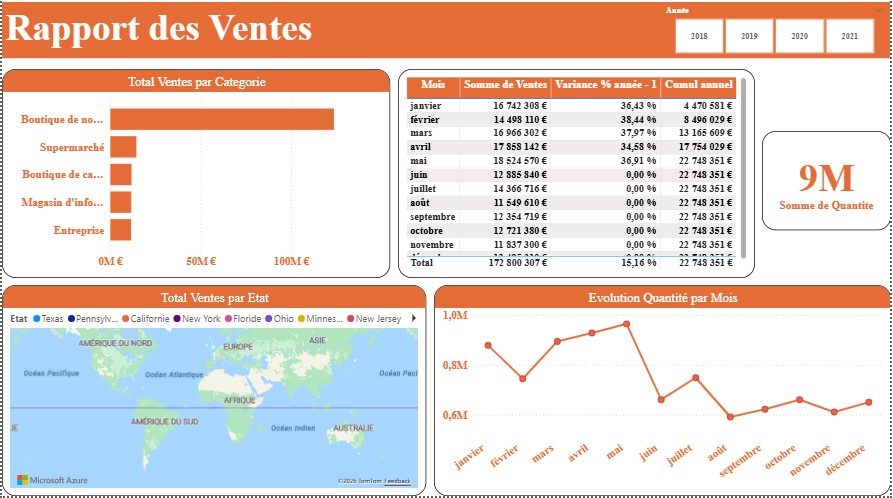

The page's visual inventory and layout, read from the dashboard file:
{"tool":"powerbi","page":{"name":"Page 1","canvas":[1280,720],"ordinal":0},"visuals":[{"type":"barChart","title":"Total  Ventes par Categorie","fields":{"Category":["ClientPrincipal.CategorieNomClient"],"Y":["Sum(DonneesFactures.Ventes)"]},"box":[0,105.1,558.7,301],"z":0},{"type":"tableEx","title":"Total  Ventes par Categorie","fields":{"Values":["DonneesFactures.Date.Variation.Hiérarchie de dates.Mois","Sum(DonneesFactures.Ventes)","ClientPrincipal.Variation en pourcentage d'une année à l'autre de Somme de Ventes","ClientPrincipal.Cumul annuel jusqu'à ce jour de Somme de Ventes"]},"box":[570.2,105.1,514.1,301],"z":1000},{"type":"azureMap","title":"Total  Ventes par Etat","fields":{"Series":["ClientPrincipal.Etat"],"Size":["Sum(DonneesFactures.Ventes)"]},"box":[0,416.2,610.6,303.8],"z":2000},{"type":"lineChart","title":"Evolution Quantité par Mois","fields":{"Category":["DonneesFactures.Date.Variation.Hiérarchie de dates.Mois","DonneesFactures.Date.Variation.Hiérarchie de dates.Jour"],"Y":["Sum(DonneesFactures.Quantite)"]},"box":[622.1,416.2,658.1,303.8],"z":3000},{"type":"card","fields":{"Values":["Sum(DonneesFactures.Quantite)"]},"box":[1094.4,194.4,185.8,142.6],"z":4000},{"type":"slicer","fields":{"Values":["DonneesFactures.Date.Variation.Hiérarchie de dates.Année"]},"box":[907.2,8.6,352.8,85],"z":5000},{"type":"textbox","box":[0,8.6,1280.2,80.6],"z":6000},{"type":"slicer","fields":{"Values":["DonneesFactures.Date.Variation.Hiérarchie de dates.Année"]},"box":[943.2,8.6,337,80.6],"z":7000}]}

Visuals, with their boxes in screenshot pixels (x1, y1, x2, y2), scaled from the page's 1280x720 canvas onto the 893x498 screenshot:
"Total  Ventes par Categorie" barChart: x1=0, y1=73, x2=390, y2=281
"Total  Ventes par Categorie" tableEx: x1=398, y1=73, x2=756, y2=281
"Total  Ventes par Etat" azureMap: x1=0, y1=288, x2=426, y2=497
"Evolution Quantité par Mois" lineChart: x1=434, y1=288, x2=892, y2=497
card - Sum(DonneesFactures.Quantite): x1=764, y1=134, x2=892, y2=233
slicer - DonneesFactures.Date.Variation.Hiérarchie de dates.Année: x1=633, y1=6, x2=879, y2=65
textbox: x1=0, y1=6, x2=892, y2=62
slicer - DonneesFactures.Date.Variation.Hiérarchie de dates.Année: x1=658, y1=6, x2=892, y2=62
